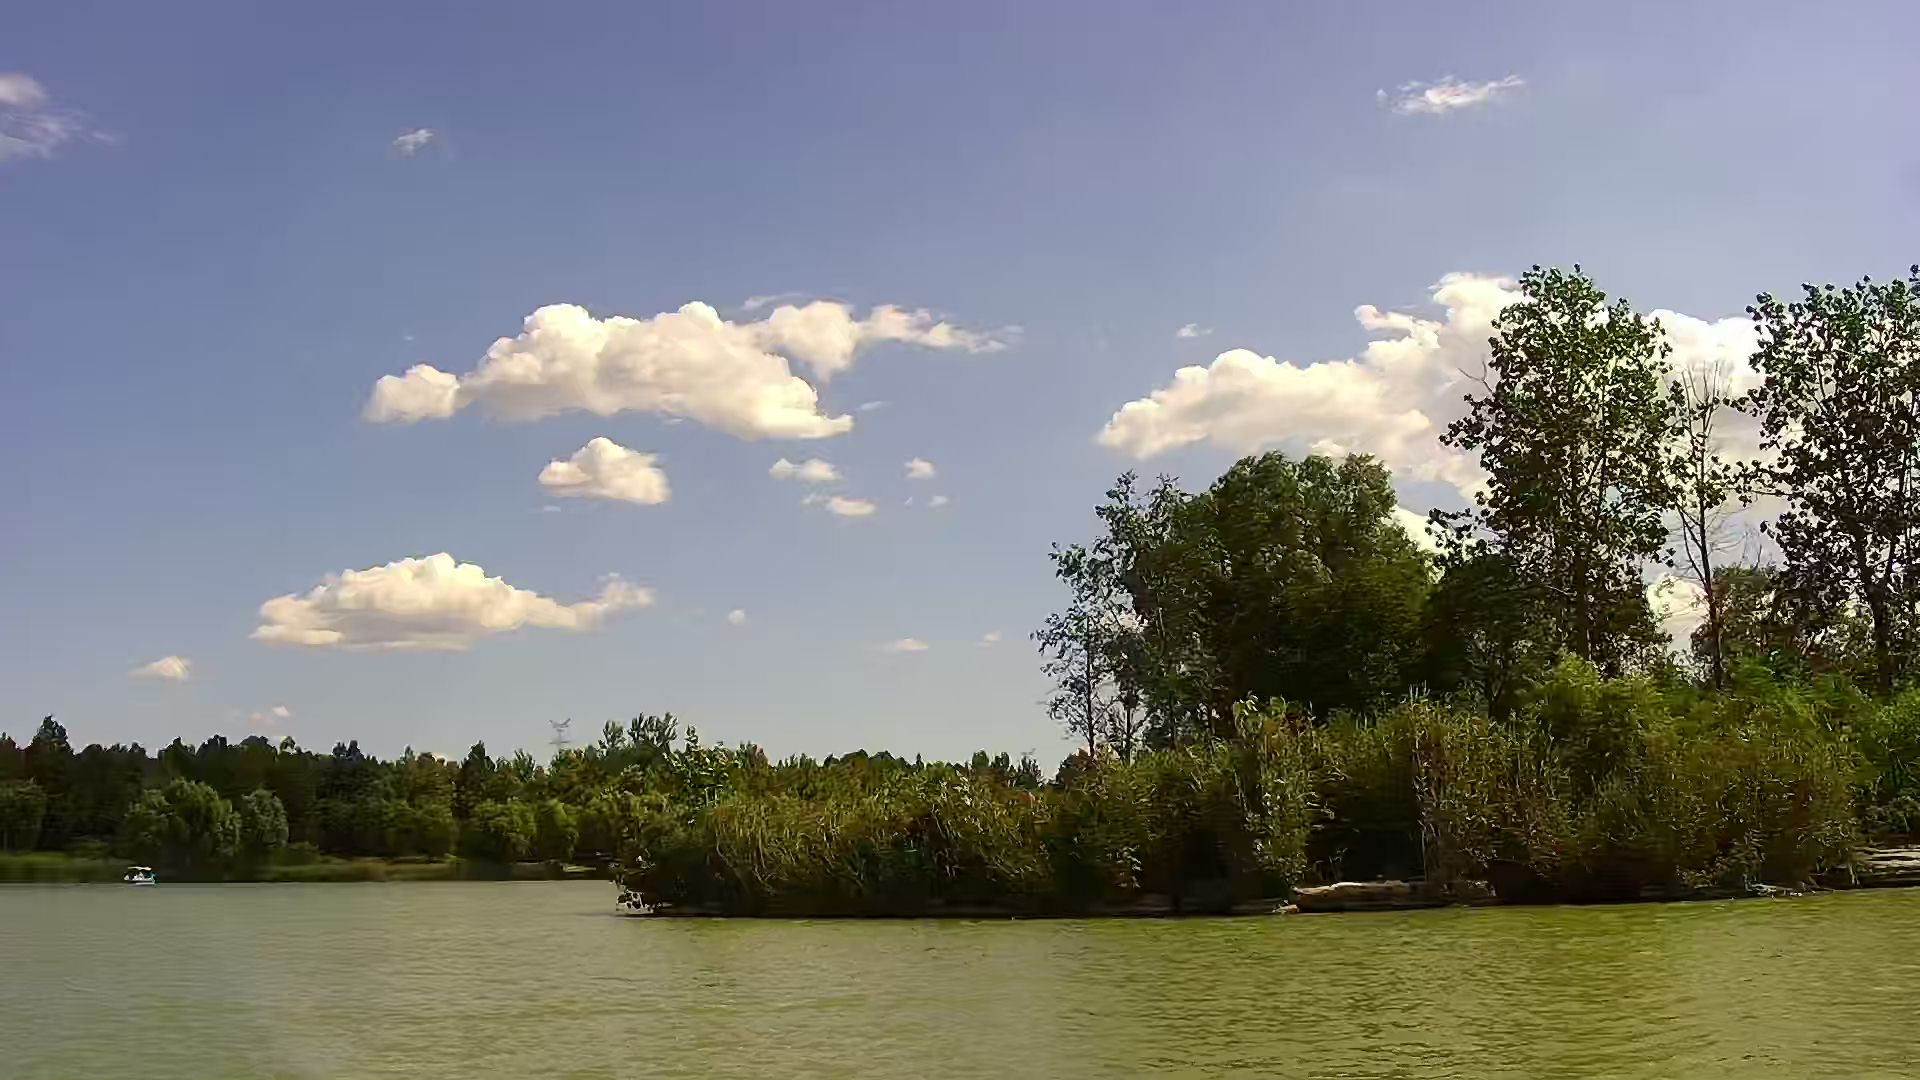boat: (123, 861, 158, 887)
